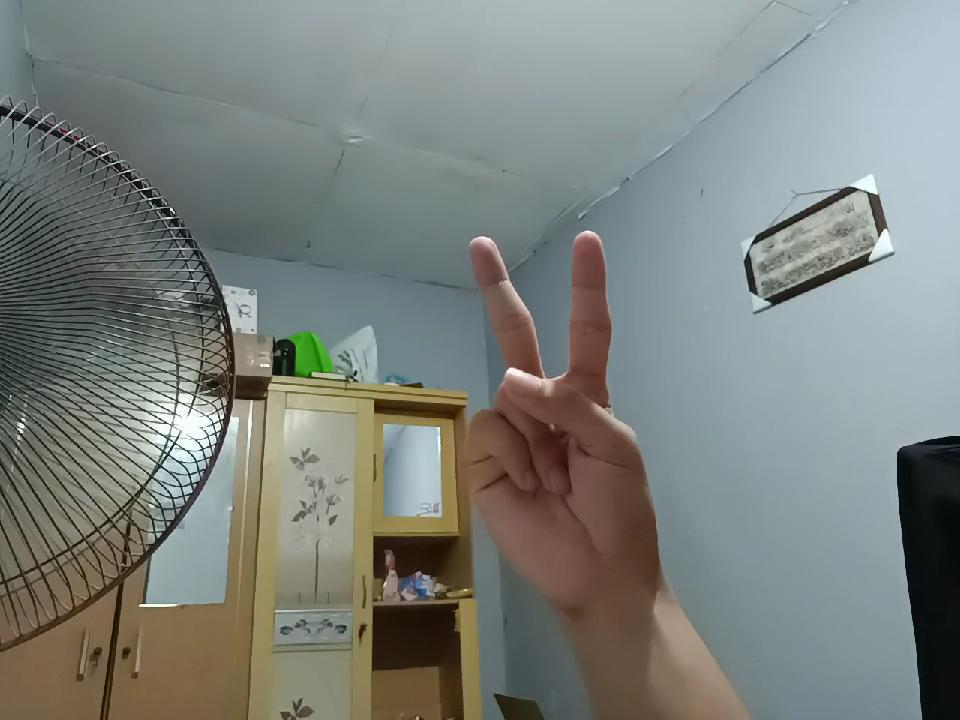scissors: (446, 217, 668, 630)
